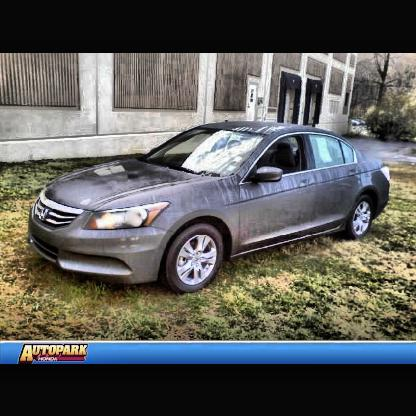Honda Accord Sedan 2012: (27, 122, 391, 294)
